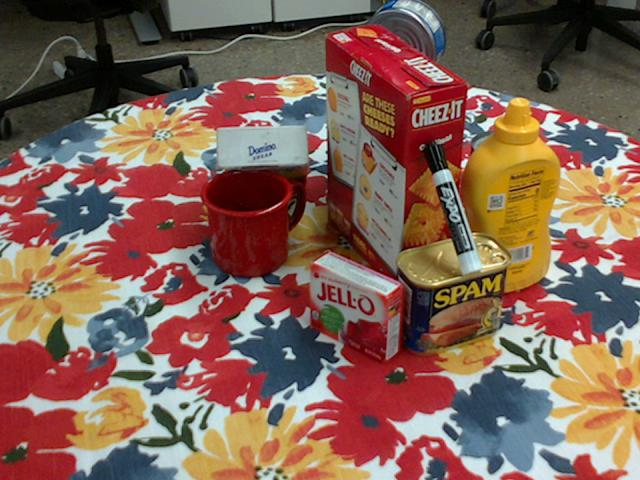cracker_box: (324, 27, 465, 294)
gelatin_box: (309, 249, 405, 362)
large_marker: (421, 140, 483, 274)
master_chef_can: (339, 58, 433, 209)
mug: (201, 167, 307, 276)
mustard_bottle: (454, 98, 560, 294)
potted_meat_can: (396, 232, 513, 355)
sugar_box: (218, 127, 308, 180)
tomato_soup_can: (463, 131, 535, 243)
tuna_fish_can: (360, 0, 444, 84)
